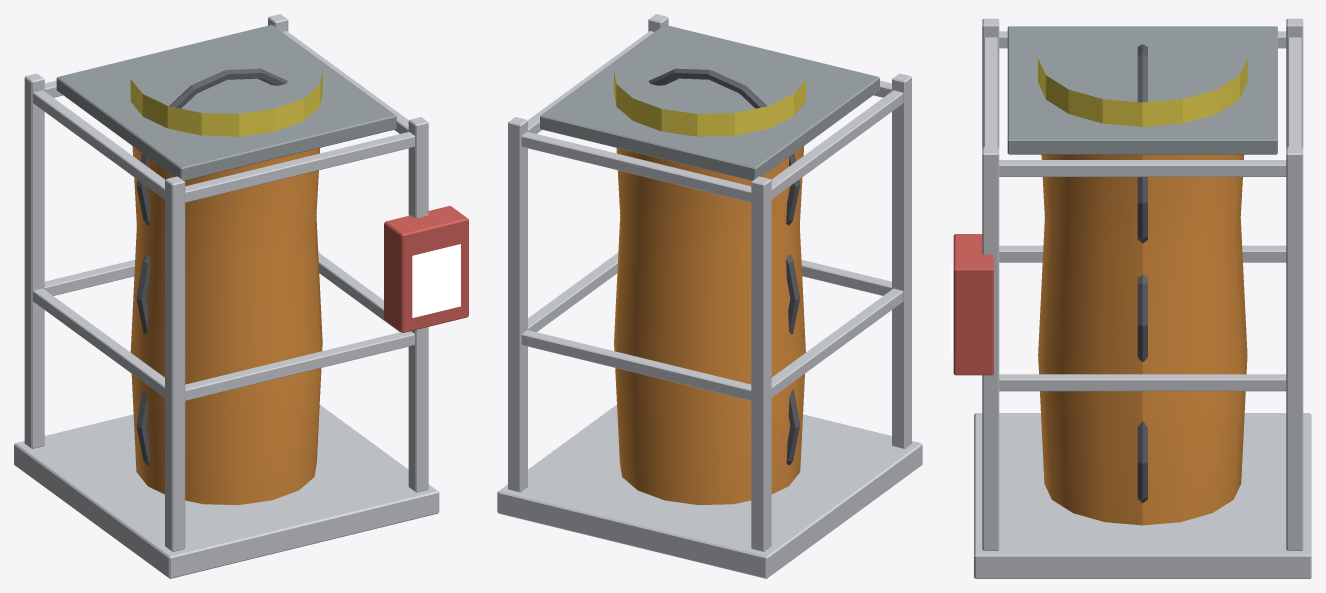
The model's file is offshore-oil-rig-and-platform-escape-chute-621d2c7b__37053.glb.
3 renders of one model, left to right at view 1: azimuth 30°, elevation 25°; view 2: azimuth 150°, elevation 25°; view 3: azimuth 270°, elevation 25°, orthographic. The views are drawn at different scales.
Visible parts, largest first — view 1: escape-chute; view 2: escape-chute; view 3: escape-chute.
Boxes of the visible parts, x1,y1,x2,y2 form: escape-chute: (14, 14, 468, 578); escape-chute: (497, 14, 922, 578); escape-chute: (951, 18, 1311, 578).
Size of the model in its own units: 2.15 by 3.03 by 2.13.
